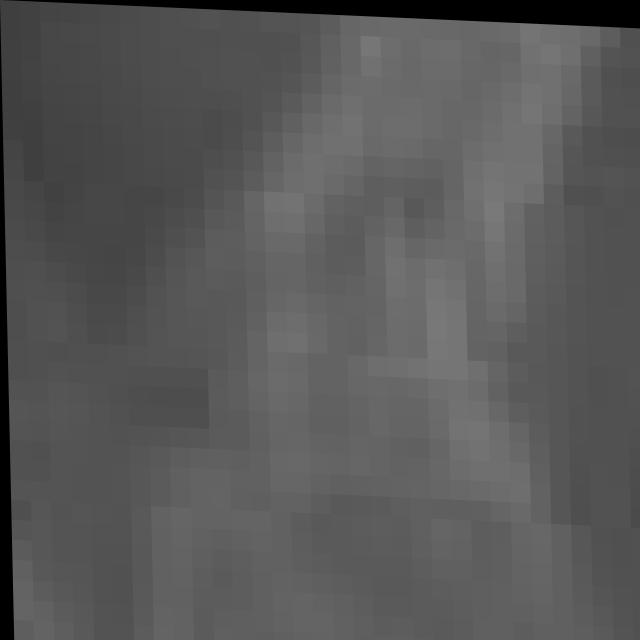fracture: (5, 2, 640, 640)
